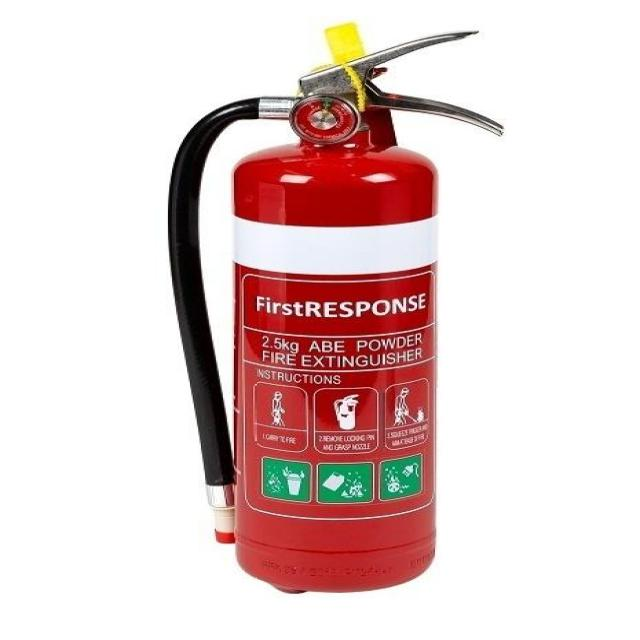fire_extinguisher: (161, 21, 508, 597)
